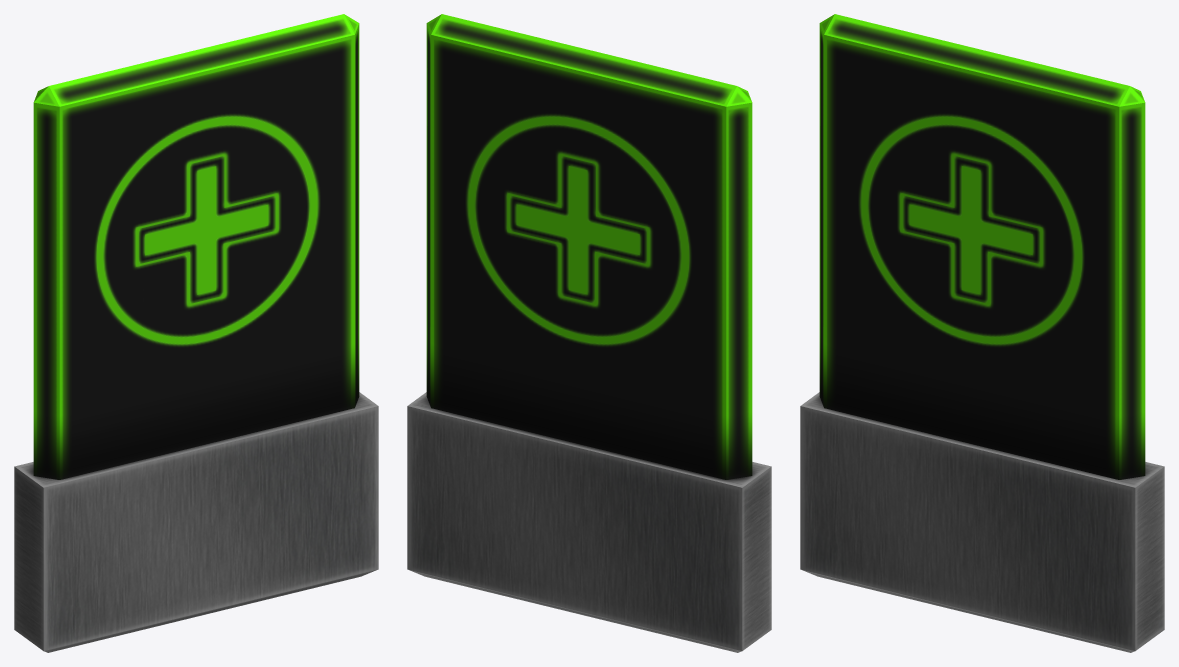
The model's file is Card02.FBX.
3 renders of one model, left to right at view 1: azimuth 30°, elevation 25°; view 2: azimuth 150°, elevation 25°; view 3: azimuth 330°, elevation 25°, orthographic.
Visible parts, largest first — view 1: Card02; view 2: Card02; view 3: Card02.
Boxes of the visible parts, left/top/right/bottom form: Card02: left=14, top=14, right=378, bottom=652; Card02: left=407, top=14, right=771, bottom=652; Card02: left=800, top=14, right=1164, bottom=652.
Size of the model in its own units: 17.44 by 27.79 by 2.63.
